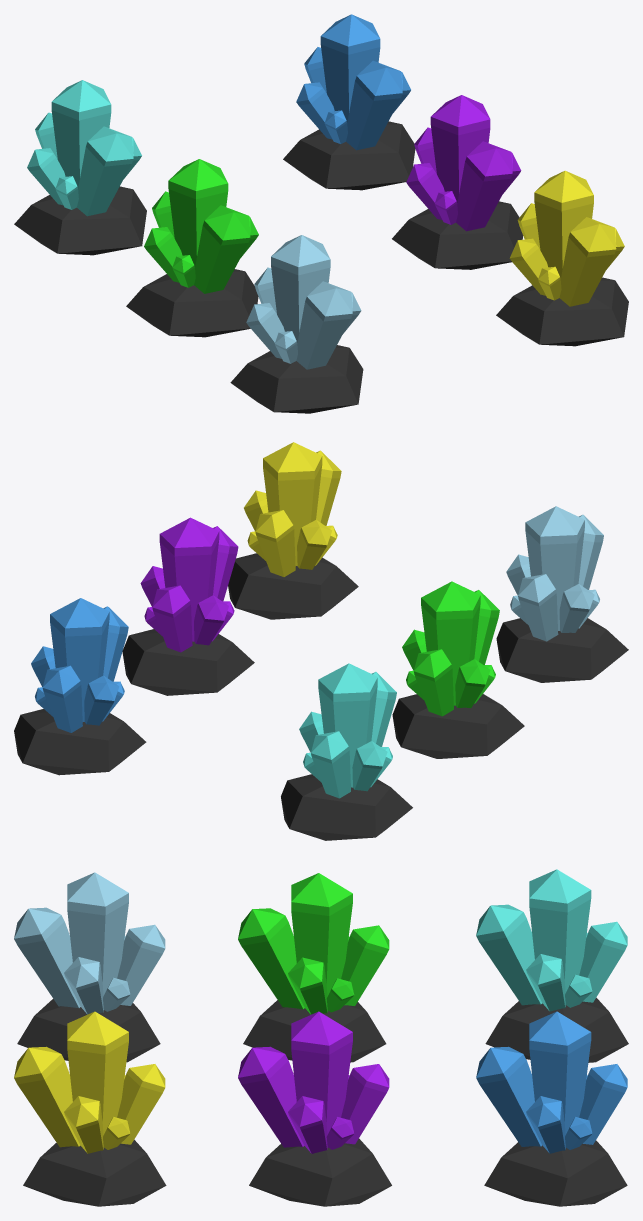
The model's file is Crystals.fbx.
3 renders of one model, top to bottom at view 1: azimuth 30°, elevation 25°; view 2: azimuth 150°, elevation 25°; view 3: azimuth 270°, elevation 25°, orthographic. The views are drawn at different scales.
Visible parts, largest first — view 1: Crystal6, Crystal5, Crystal3, Crystal, Crystal4, Crystal2; view 2: Crystal2, Crystal, Crystal4, Crystal5, Crystal6, Crystal3; view 3: Crystal, Crystal2, Crystal3, Crystal4, Crystal6, Crystal5.
Part boxes in pixels (bbox=[...]): Crystal6: bbox=[230, 235, 363, 413]; Crystal5: bbox=[126, 159, 258, 337]; Crystal3: bbox=[496, 170, 628, 346]; Crystal: bbox=[283, 14, 415, 190]; Crystal4: bbox=[14, 80, 146, 255]; Crystal2: bbox=[392, 95, 523, 269]; Crystal2: bbox=[122, 517, 254, 695]; Crystal: bbox=[14, 598, 146, 775]; Crystal4: bbox=[281, 663, 412, 840]; Crystal5: bbox=[392, 581, 524, 758]; Crystal6: bbox=[496, 506, 628, 682]; Crystal3: bbox=[228, 442, 358, 619]; Crystal: bbox=[476, 1011, 627, 1206]; Crystal2: bbox=[238, 1011, 391, 1206]; Crystal3: bbox=[14, 1011, 166, 1206]; Crystal4: bbox=[476, 869, 628, 1062]; Crystal6: bbox=[14, 872, 165, 1062]; Crystal5: bbox=[238, 873, 389, 1062].
Size of the model in its own units: 420 by 176 by 540.
